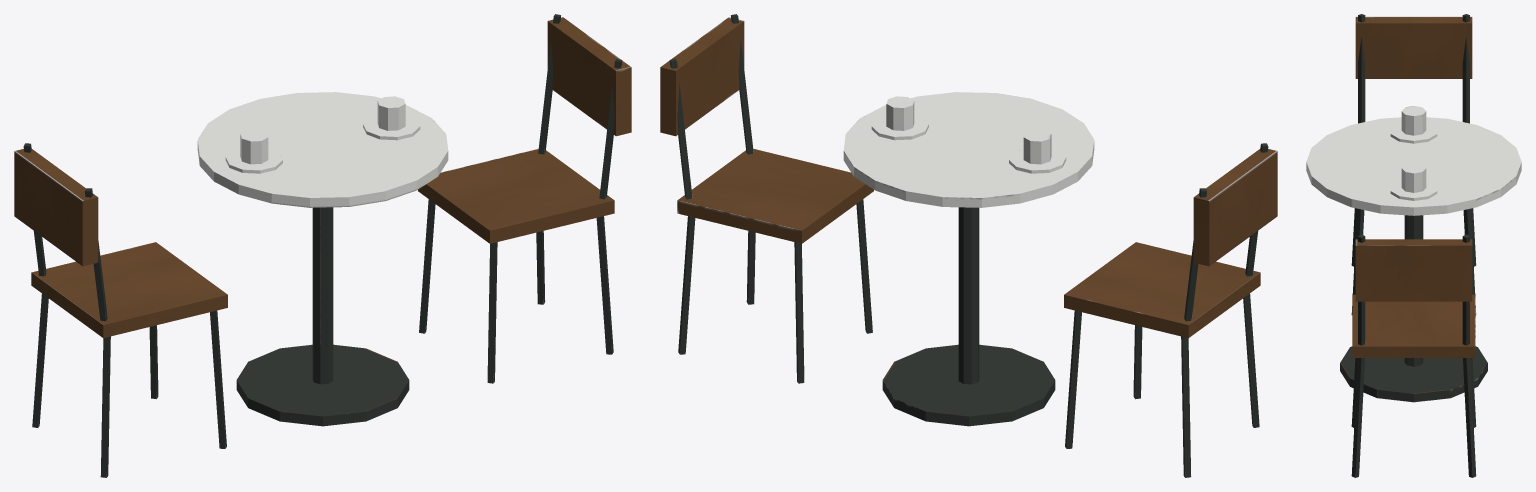
The model's file is stolek_kavarna_f7126baf.glb.
3 renders of one model, left to right at view 1: azimuth 30°, elevation 25°; view 2: azimuth 150°, elevation 25°; view 3: azimuth 270°, elevation 25°, orthographic. The views are drawn at different scales.
Parts seen in each view (by area): view 1: dum; view 2: dum; view 3: dum.
Part boxes in pixels (<box>): dum: <box>14,14,631,477</box>; dum: <box>660,14,1277,477</box>; dum: <box>1306,14,1521,477</box>.
Size of the model in its own units: 1.76 by 0.8797 by 0.6982.
Materials: 1 (1 with a texture image).
